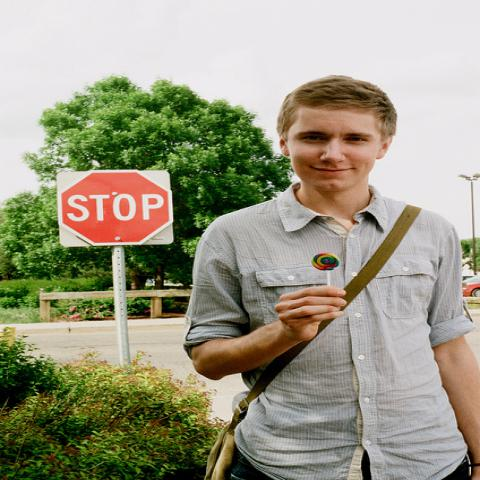car: (462, 275, 479, 297)
